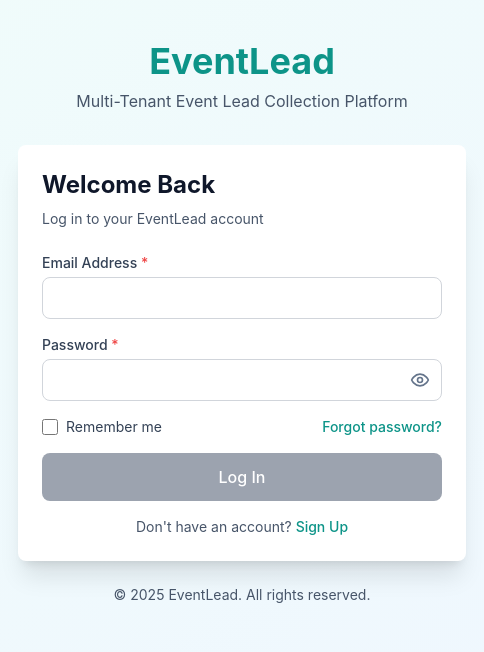
Test: LoginForm Component › Form Submission › should show error message on invalid credentials
Type "test@example.com" into the field labelled "Email Address *" at (242, 298), box [42,277,442,319]
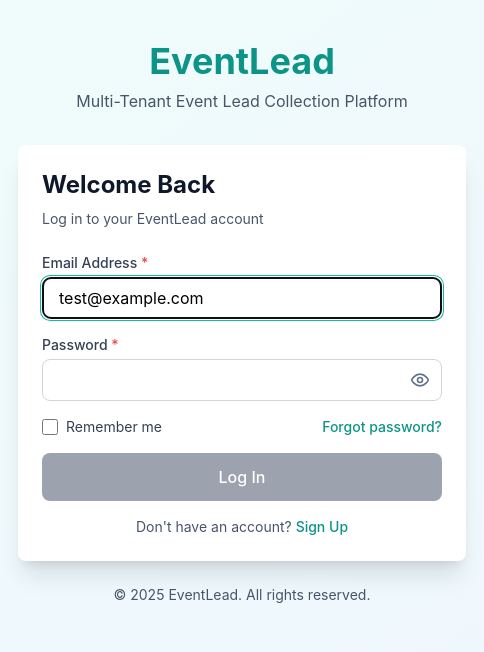
Type "WrongPassword" into the password field labelled "Password *" at (242, 380), box [42,359,442,401]
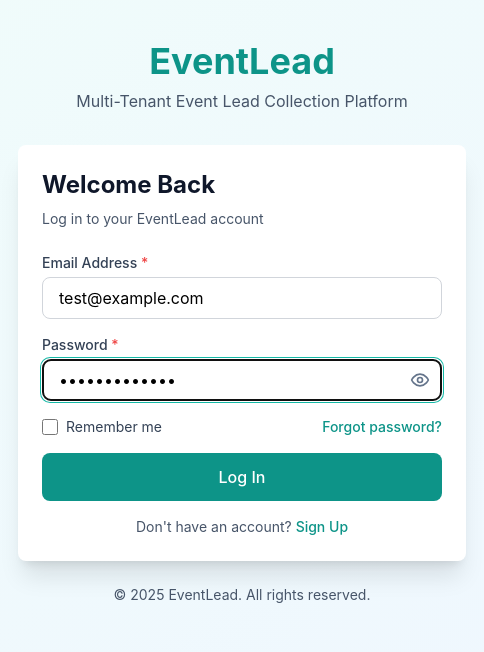
Click the button "Log In" at (242, 477), box [42,453,442,501]
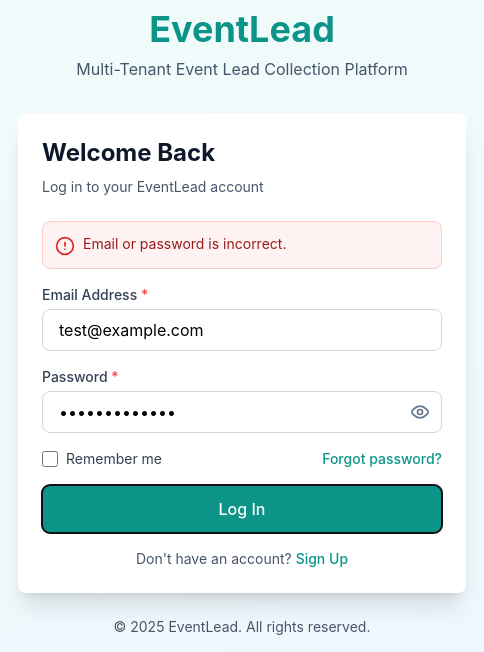
Check: the text "Email or password is incorrect." is shown, box [83,234,286,254]
